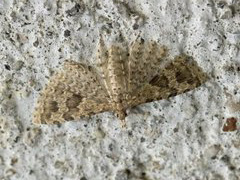Alucitidae: (29, 27, 208, 126)
moth: (31, 29, 210, 128)
